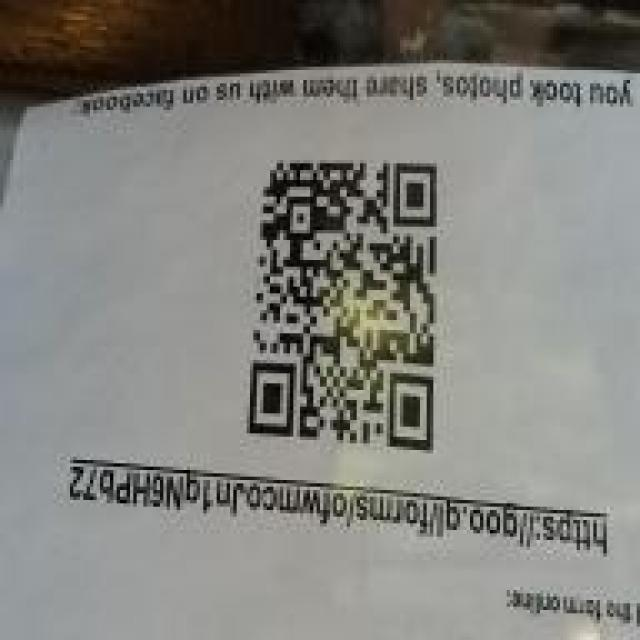QR_CODE: (248, 135, 447, 477)
